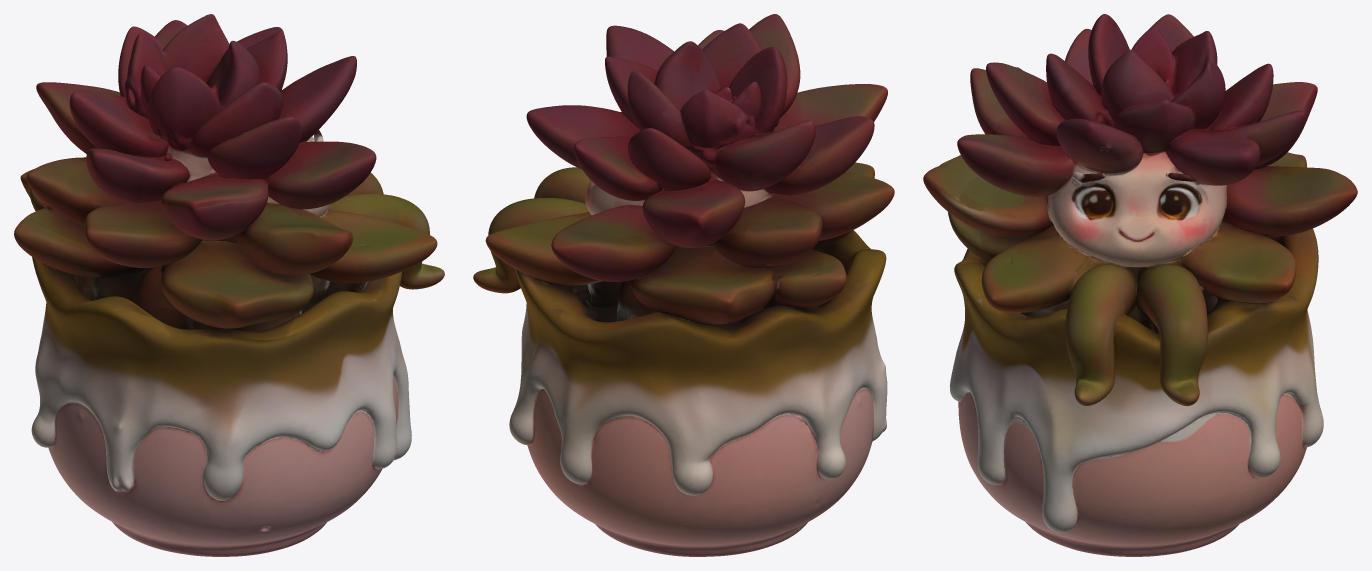
Rendered from 草-google.glb.
3 renders of one model, left to right at view 1: azimuth 30°, elevation 25°; view 2: azimuth 150°, elevation 25°; view 3: azimuth 270°, elevation 25°, orthographic.
Parts seen in each view (by area): view 1: tripo_node_5acb618b-164c-4c8b-896b-dae39af1d75b; view 2: tripo_node_5acb618b-164c-4c8b-896b-dae39af1d75b; view 3: tripo_node_5acb618b-164c-4c8b-896b-dae39af1d75b.
Part boxes in pixels (x1,y1,x2,y2): tripo_node_5acb618b-164c-4c8b-896b-dae39af1d75b: [14, 14, 444, 556]; tripo_node_5acb618b-164c-4c8b-896b-dae39af1d75b: [473, 14, 894, 556]; tripo_node_5acb618b-164c-4c8b-896b-dae39af1d75b: [923, 14, 1357, 556].
Size of the model in its own units: 0.8251 by 0.9998 by 0.8323.
1 material, 1 textured.
